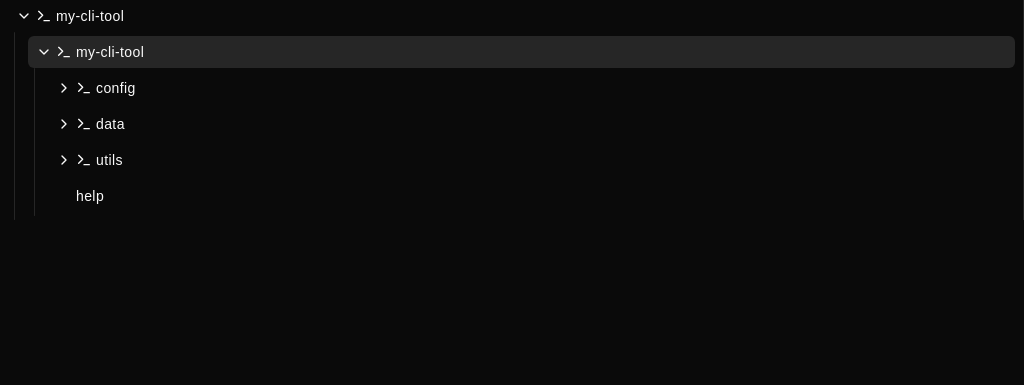
Scenario: CommandTree › State Management Tests › handles command hierarchy changes correctly
Click the 3rd button: coordinates (64, 88) [56, 80, 72, 96]
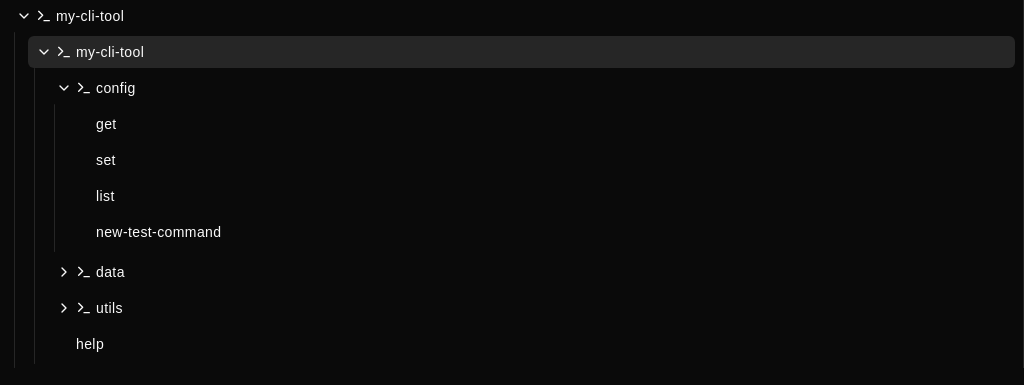
Check: the text "new-test-command" is shown, box [96, 224, 222, 240]
